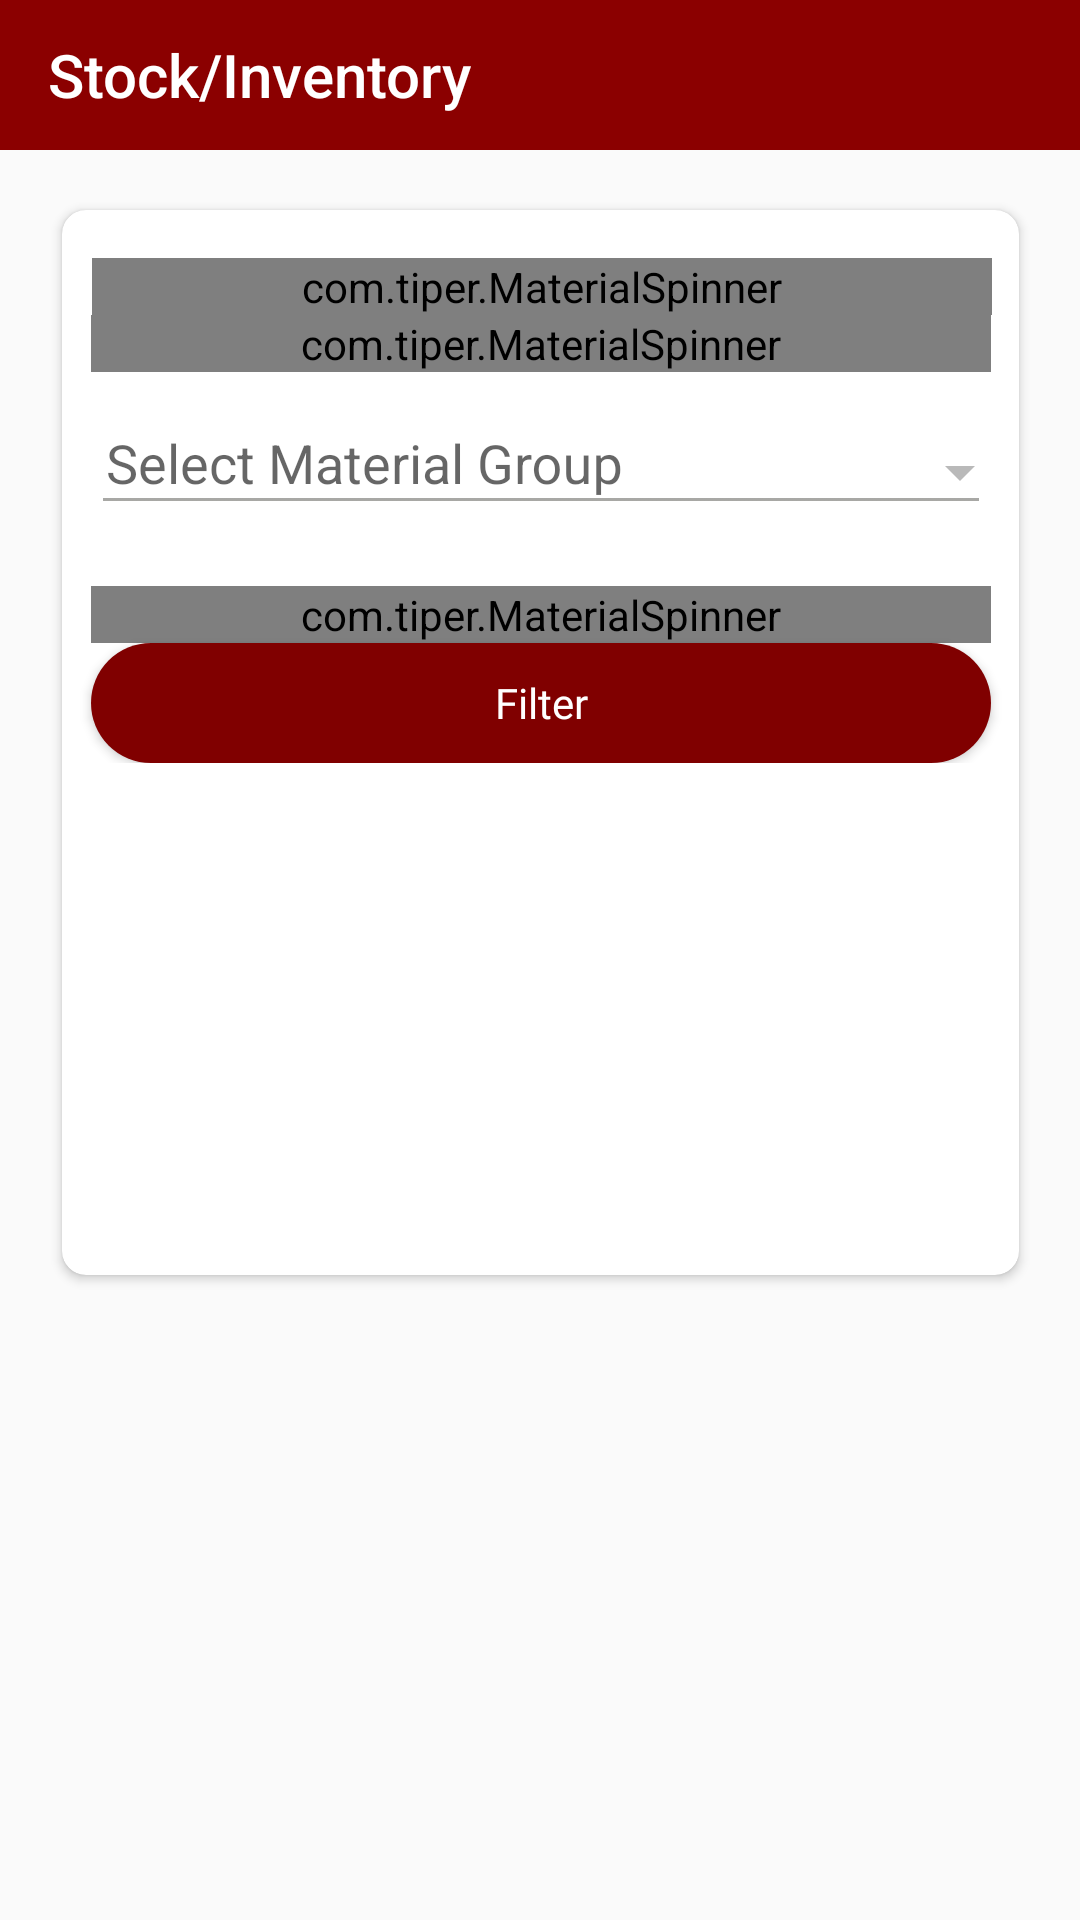

Where to tap for icons on this 1080 x 1920 app screen, as (x=x, y=y):
arrow drop down: (x=960, y=473)
